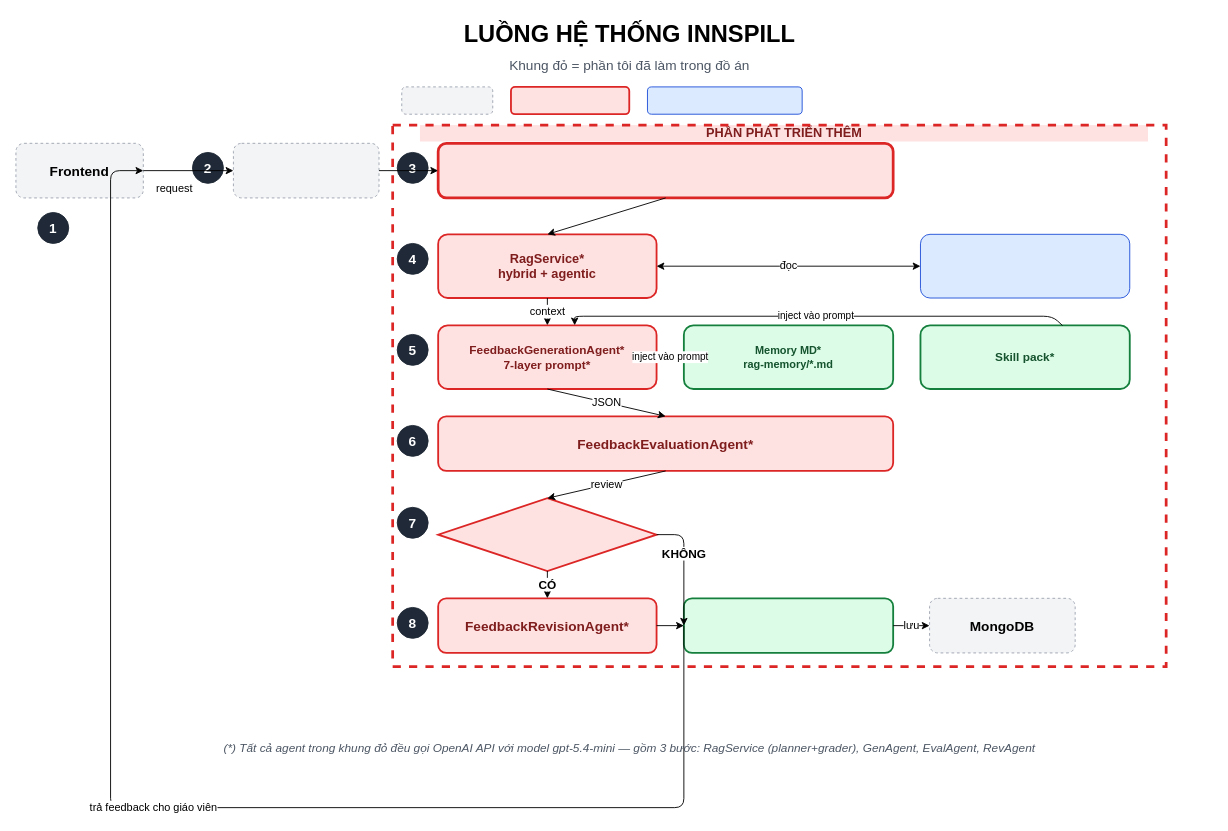
Some shapes in this 1228 by 831 pixel diagram are drawn without their labels. The box of each missing label's shape, as (x1, y1, x2, y2) in pixels:
Có sẵn: (401, 86, 493, 114)
Dữ liệu bên ngoài: (647, 86, 802, 114)
Feedback JSON: (682, 597, 894, 653)
FeedbackWorkflow*: (436, 142, 894, 199)
Phần tôi làm: (510, 86, 630, 115)
RAG Store: (920, 233, 1130, 298)
Route: (233, 142, 379, 198)
shouldRevise?* auto / always / never: (437, 497, 657, 571)
